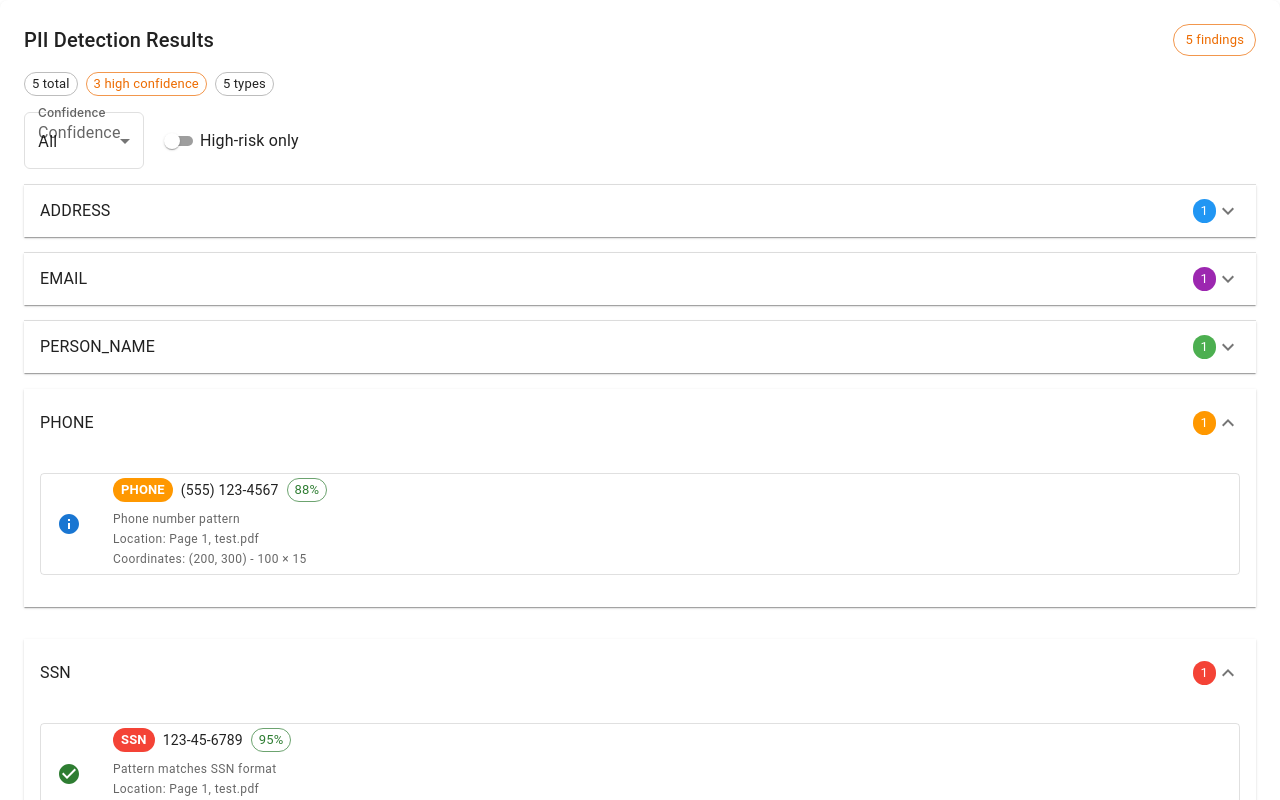
Test: PIIFindings › should handle mixed confidence levels in filtering
Expected: the text "5 findings" is shown, 1185,32 -> 1244,47
// Filter for medium confidence (70-79%)
Press the mouse on the dropdown named "Confidence" at (48, 140), box 38,130 -> 57,150
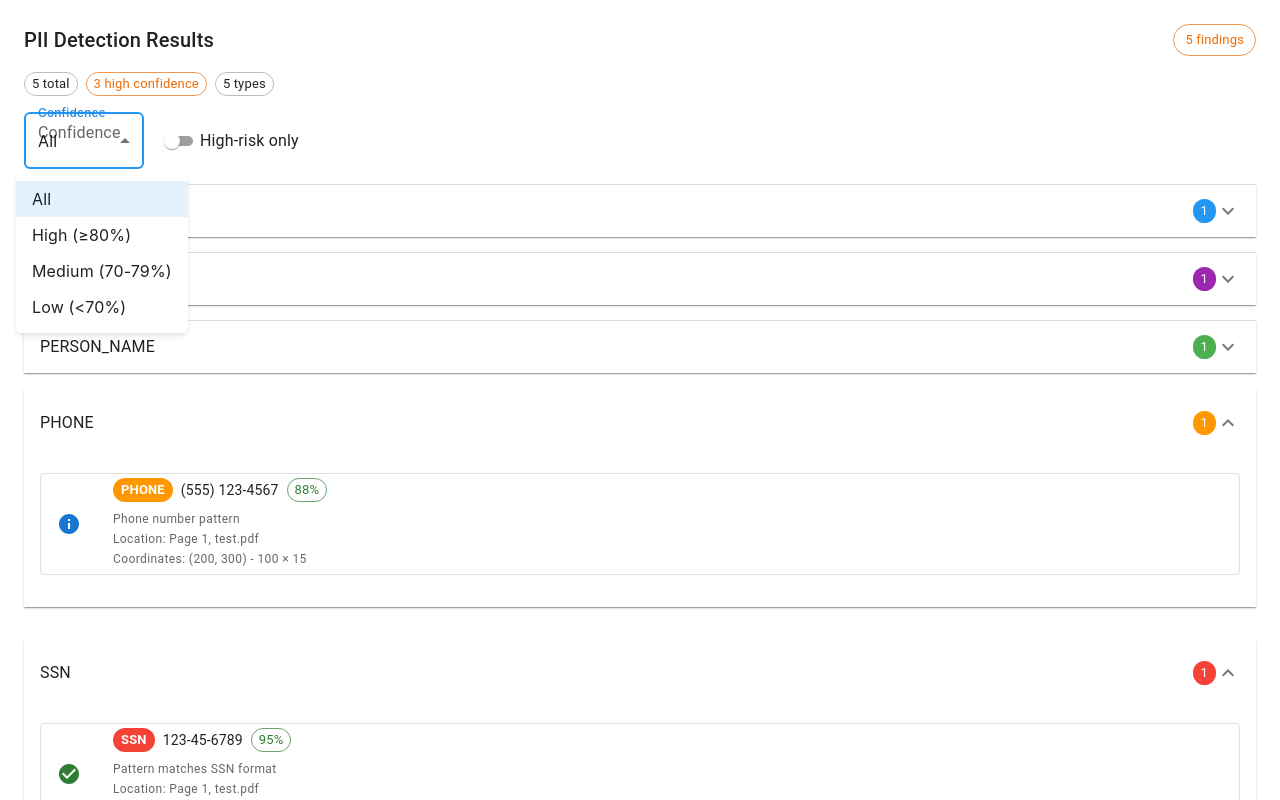
Click the option "Medium (70-79%)" at (102, 271), box 32,261 -> 172,281
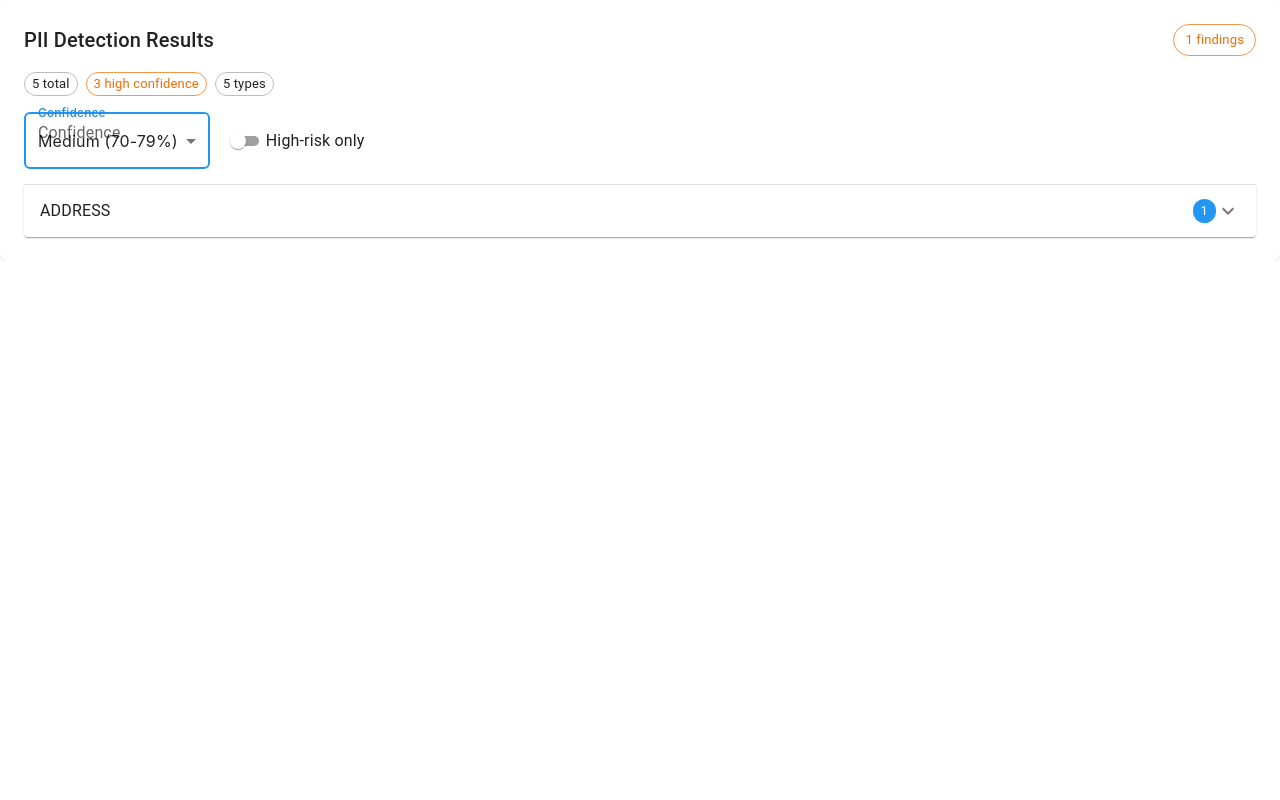
Expected: the text "1 findings" is shown, 1185,32 -> 1244,47
